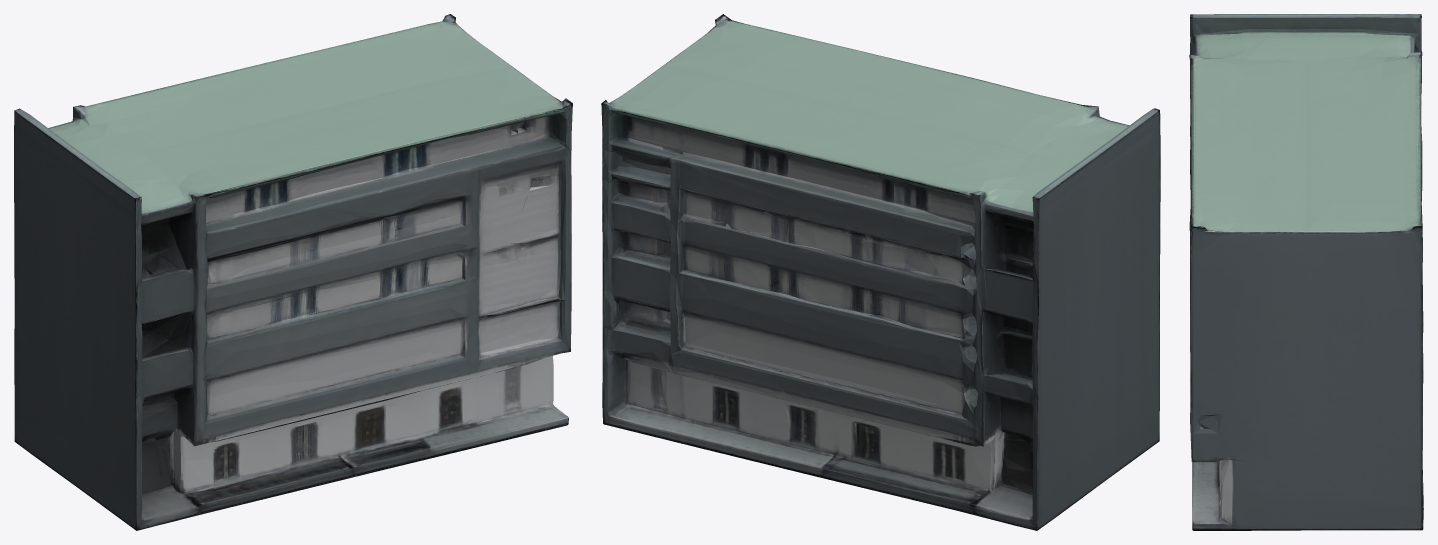
The model's file is incubation.glb.
3 views of the same model, side by side, from view 1: azimuth 30°, elevation 25°; view 2: azimuth 150°, elevation 25°; view 3: azimuth 270°, elevation 25° (orthographic). The views are drawn at different scales.
Visible parts, largest first — view 1: world; view 2: world; view 3: world.
Boxes of the visible parts, x1=… form: world: x1=14, y1=14, x2=572, y2=530; world: x1=601, y1=14, x2=1160, y2=530; world: x1=1189, y1=14, x2=1423, y2=530.
Bounding box in the file's own units: 0.4922 × 0.3576 × 0.2403.
1 material, 1 textured.
